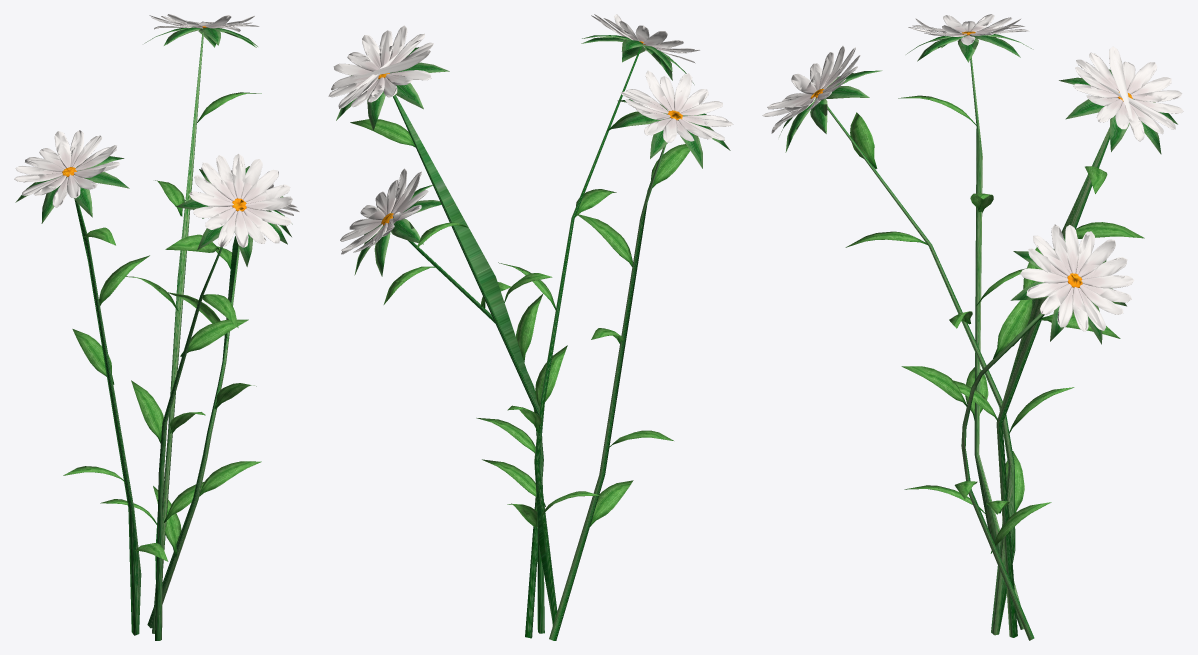
File: white_flower.fbx
The picture shows the model from 3 angles, left to right: view 1: azimuth 30°, elevation 25°; view 2: azimuth 150°, elevation 25°; view 3: azimuth 270°, elevation 25°; orthographic projection. The views are drawn at different scales.
Parts seen in each view (by area): view 1: white_flower; view 2: white_flower; view 3: white_flower.
Part boxes in pixels (left/top/right/bottom): white_flower: left=14, top=14, right=299, bottom=640; white_flower: left=328, top=14, right=733, bottom=640; white_flower: left=762, top=14, right=1183, bottom=640.
Size of the model in its own units: 46.81 by 81.64 by 49.98.
